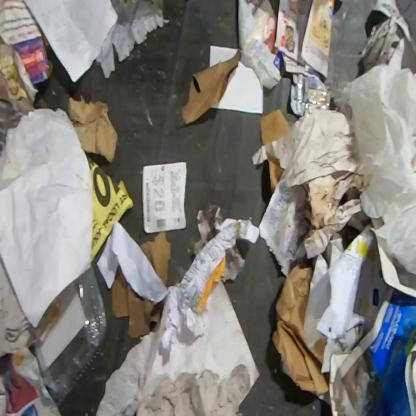cardboard: (270, 261, 329, 396), (135, 363, 251, 416), (67, 94, 119, 164), (258, 108, 292, 146), (268, 155, 285, 196)
rigid_plastic: (25, 262, 107, 409)
soft_plastic: (332, 37, 415, 277), (10, 344, 52, 400), (289, 73, 331, 116)
